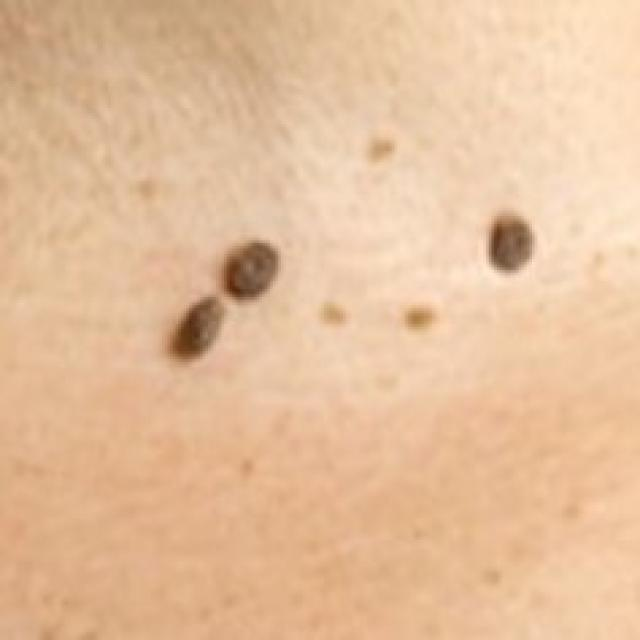wart: (162, 292, 227, 359), (219, 238, 281, 300), (486, 210, 532, 270)
